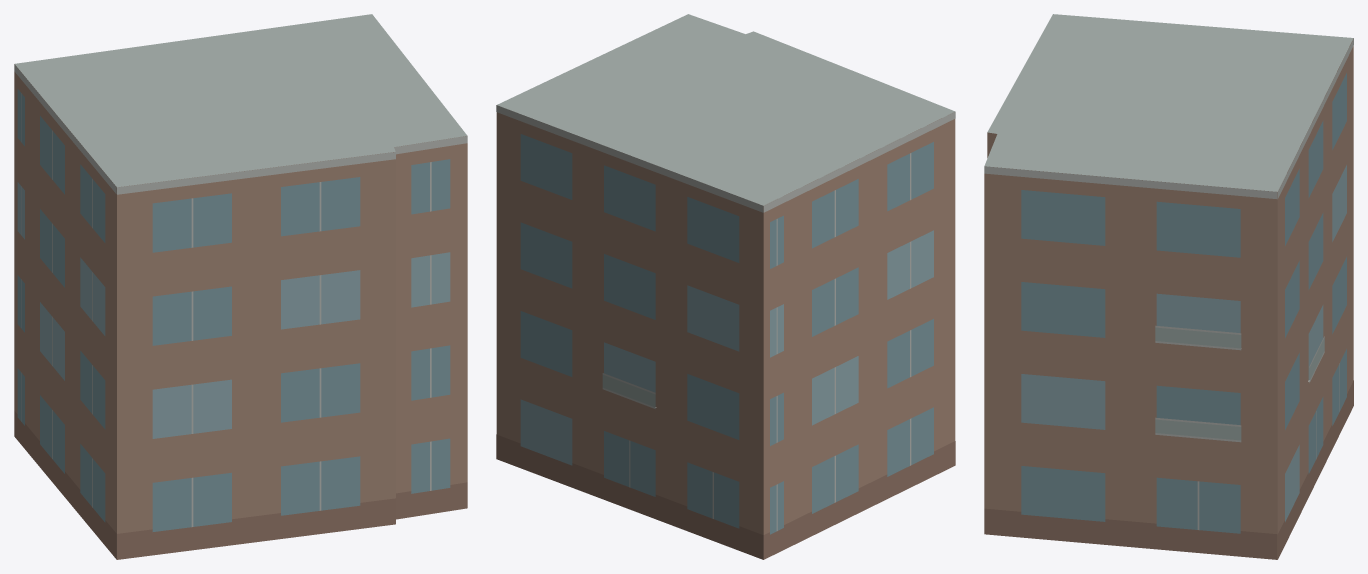
File: survey-upis-32618711.glb
3 views of the same model, side by side, from view 1: azimuth 30°, elevation 25°; view 2: azimuth 150°, elevation 25°; view 3: azimuth 270°, elevation 25° (orthographic). The views are drawn at different scales.
Parts seen in each view (by area): view 1: survey-upis-32618711.tmp; view 2: survey-upis-32618711.tmp; view 3: survey-upis-32618711.tmp.
Boxes of the visible parts, x1=… form: survey-upis-32618711.tmp: x1=14, y1=14, x2=467, y2=559; survey-upis-32618711.tmp: x1=496, y1=14, x2=955, y2=559; survey-upis-32618711.tmp: x1=984, y1=14, x2=1353, y2=559.
Size of the model in its own units: 12.66 by 12.2 by 11.11.
